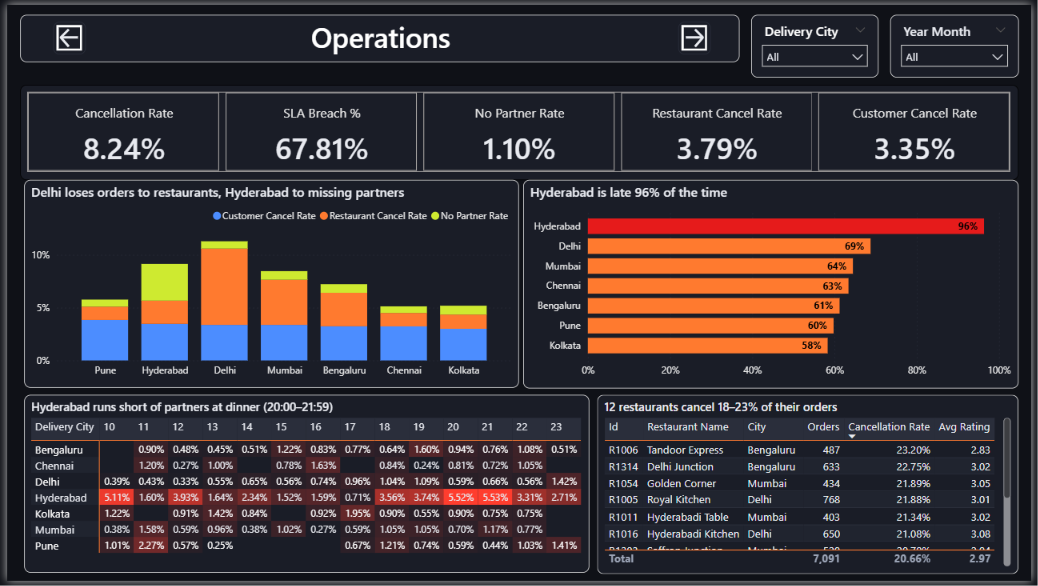

The page's visual inventory and layout, read from the dashboard file:
{"tool":"powerbi","page":{"name":"Operations","canvas":[1280,720],"ordinal":1},"visuals":[{"type":"textbox","title":"Operations","box":[16.2,12.2,899.4,59.4],"z":0},{"type":"slicer","fields":{"Values":["dw fact_orders.delivery_city"]},"box":[930.5,12.2,159.4,78.3],"z":1000},{"type":"slicer","fields":{"Values":["dw dim_date.year_month"]},"box":[1103.4,12.2,160.7,78.3],"z":2000},{"type":"cardVisual","fields":{"Data":["measures_table.Cancellation Rate","measures_table.SLA Breach %","measures_table.No Partner Rate","measures_table.Restaurant Cancel Rate","measures_table.Customer Cancel Rate"]},"box":[16.2,99.9,1247.9,118.8],"z":3000},{"type":"columnChart","title":"Delhi loses orders to restaurants, Hyderabad to missing partners","fields":{"Category":["dw fact_orders.delivery_city"],"Y":["measures_table.Customer Cancel Rate","measures_table.Restaurant Cancel Rate","measures_table.No Partner Rate"]},"box":[21.2,218.8,618.8,260],"z":4000},{"type":"clusteredBarChart","title":"Hyderabad is late 96% of the time","fields":{"Category":["dw fact_orders.delivery_city"],"Y":["measures_table.SLA Breach %"]},"box":[645.4,218.4,618.9,260.6],"z":5000},{"type":"pivotTable","title":"Hyderabad runs short of partners at dinner (20:00–21:59)","fields":{"Rows":["dw fact_orders.delivery_city"],"Columns":["dw fact_orders.order_hour"],"Values":["measures_table.No Partner Rate"]},"box":[21.2,487.5,706.2,222.5],"z":6000},{"type":"tableEx","title":"12 restaurants cancel 18–23% of their orders","fields":{"Values":["dw dim_restaurant.restaurant_id","dw dim_restaurant.restaurant_name","dw dim_restaurant.city","measures_table.Orders","measures_table.Restaurant Cancel Rate","measures_table.Avg Rating"]},"box":[737.5,487.5,526.2,223.8],"z":7000},{"type":"actionButton","box":[839.3,21.6,40.5,40.5],"z":8000},{"type":"actionButton","box":[58,21.6,40.5,40.5],"z":9000}]}

Visuals, with their boxes in screenshot pixels (x1, y1, x2, y2), scaled from the page's 1280x720 canvas onto the 1038x586 screenshot:
"Operations" textbox: bbox=[13, 10, 742, 58]
slicer - dw fact_orders.delivery_city: bbox=[755, 10, 884, 74]
slicer - dw dim_date.year_month: bbox=[895, 10, 1025, 74]
cardVisual - measures_table.Cancellation Rate x measures_table.SLA Breach %: bbox=[13, 81, 1025, 178]
"Delhi loses orders to restaurants, Hyderabad to missing partners" columnChart: bbox=[17, 178, 519, 390]
"Hyderabad is late 96% of the time" clusteredBarChart: bbox=[523, 178, 1025, 390]
"Hyderabad runs short of partners at dinner (20:00–21:59)" pivotTable: bbox=[17, 397, 590, 578]
"12 restaurants cancel 18–23% of their orders" tableEx: bbox=[598, 397, 1025, 579]
actionButton: bbox=[681, 18, 713, 51]
actionButton: bbox=[47, 18, 80, 51]
